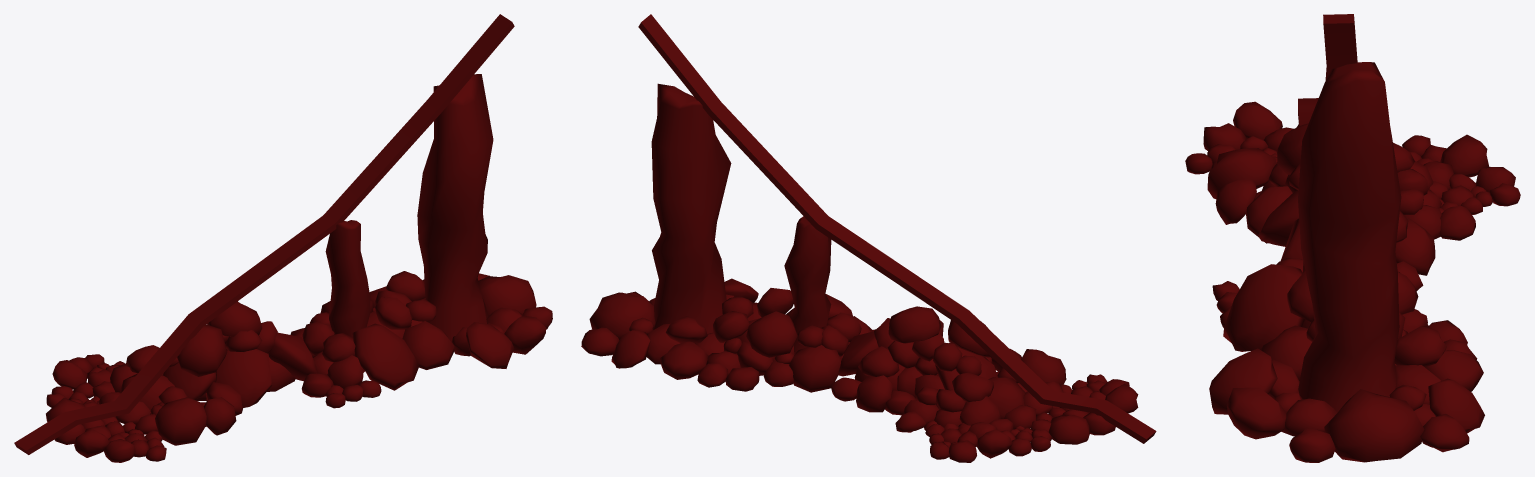
File: UniqueRamp_mesh.fbx
3 renders of one model, left to right at view 1: azimuth 30°, elevation 25°; view 2: azimuth 150°, elevation 25°; view 3: azimuth 270°, elevation 25°, orthographic. The views are drawn at different scales.
Visible parts, largest first — view 1: UniqueRamp_mesh; view 2: UniqueRamp_mesh; view 3: UniqueRamp_mesh.
Boxes of the visible parts, x1,y1,x2,y2 form: UniqueRamp_mesh: (14,14,552,462); UniqueRamp_mesh: (581,14,1156,462); UniqueRamp_mesh: (1185,14,1520,462).
Size of the model in its own units: 47.37 by 26.48 by 18.47.
